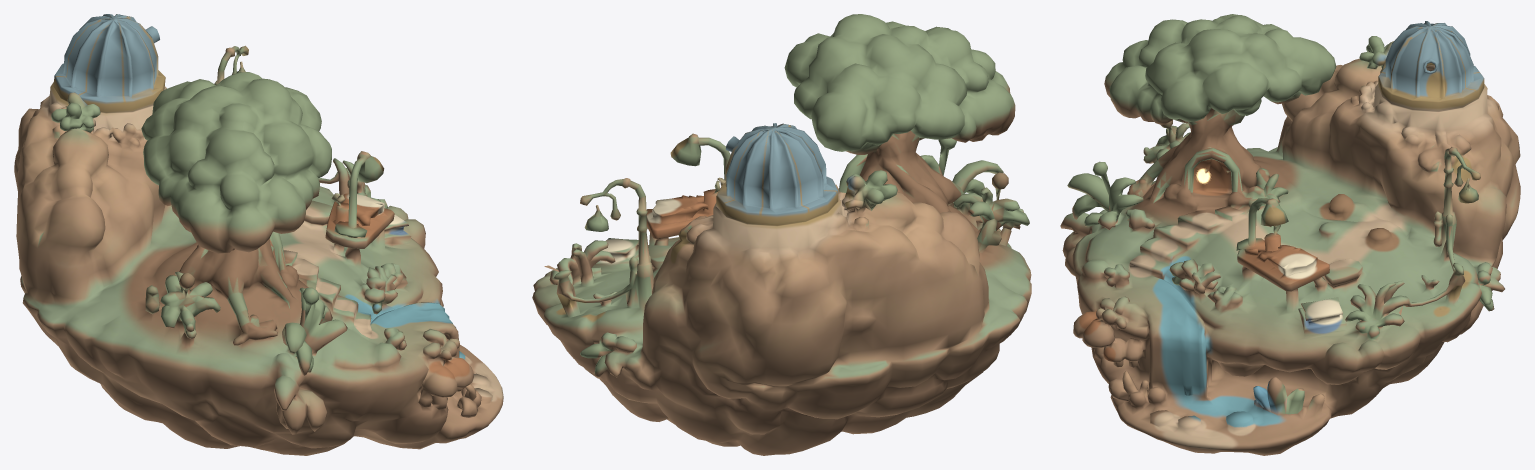
The picture shows the model from 3 angles, left to right: view 1: azimuth 30°, elevation 25°; view 2: azimuth 150°, elevation 25°; view 3: azimuth 270°, elevation 25°; orthographic projection. The views are drawn at different scales.
Visible parts, largest first — view 1: UserWorld_b612; view 2: UserWorld_b612; view 3: UserWorld_b612.
Boxes of the visible parts, <box> form: UserWorld_b612: <box>14,14,503,455</box>; UserWorld_b612: <box>532,14,1031,455</box>; UserWorld_b612: <box>1060,14,1520,455</box>.
Size of the model in its own units: 10.05 by 8.54 by 10.53.
1 material, 1 textured.
